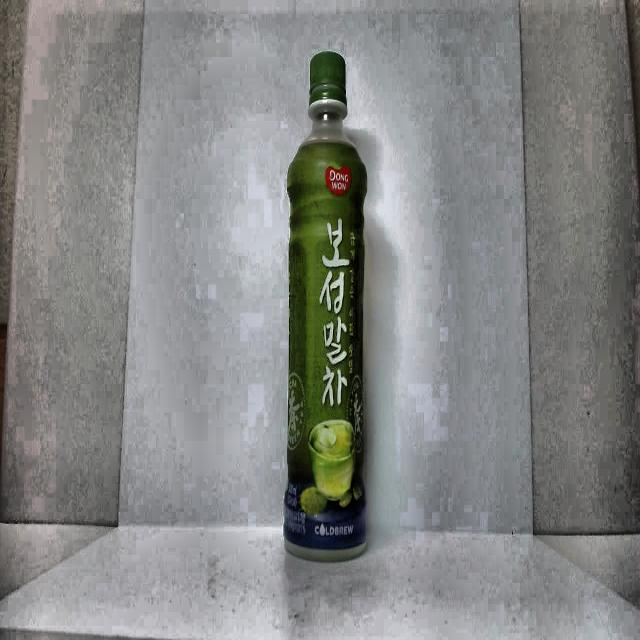Bottles: (277, 28, 394, 602)
